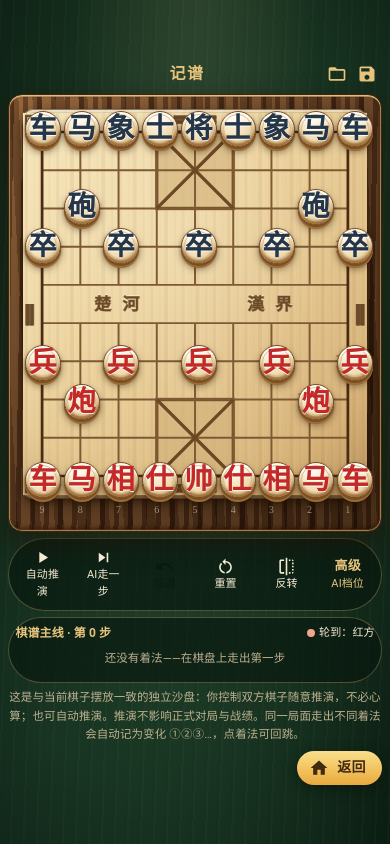
Test: 功能 C：举一反三自查项 › 确认前点「取消」退出确认态，棋谱不被删除
Click the button with test id "notation-open" at (337, 74), box 322,59 -> 352,89
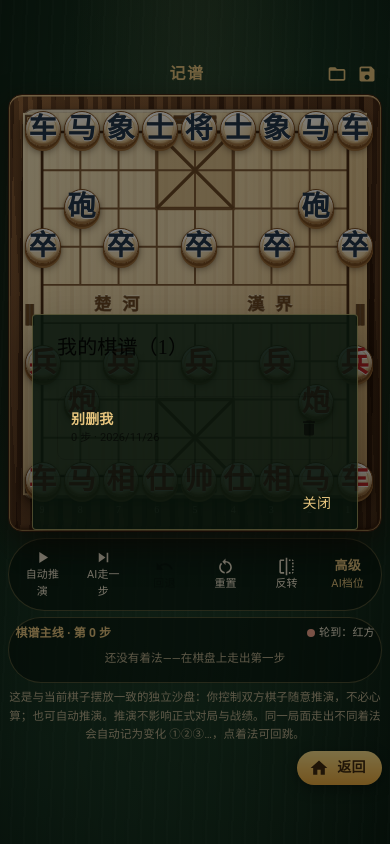
Click the button named "删除别删我" at (309, 428), box 294,413 -> 324,443
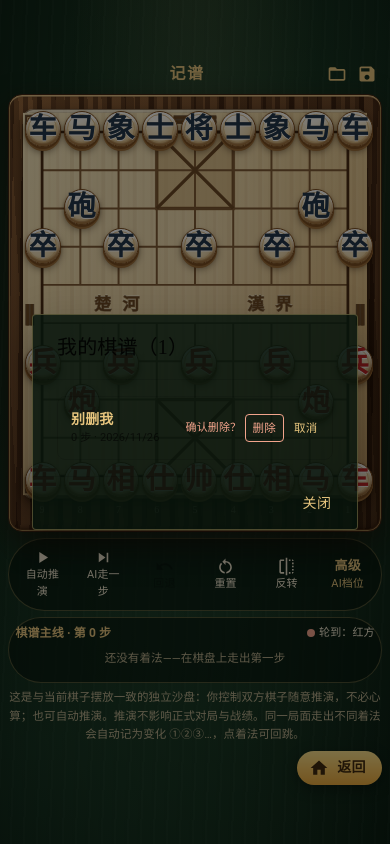
Click the button "取消" at (306, 428), box 288,414 -> 324,442
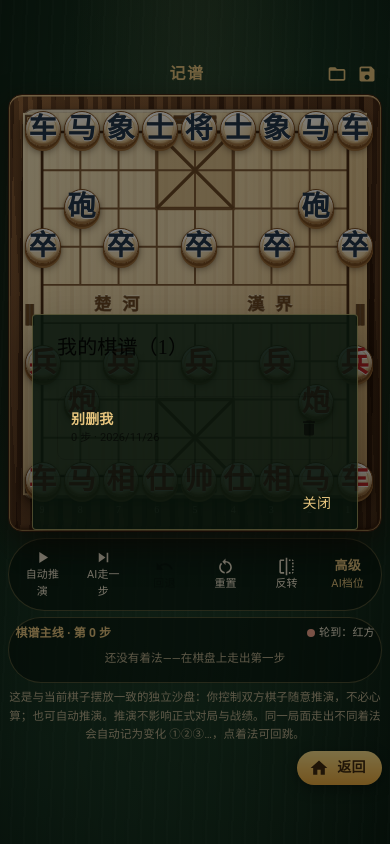
Now the text "别删我" is shown, box 71,411 -> 113,427
Now the text "确认删除？" is gone
